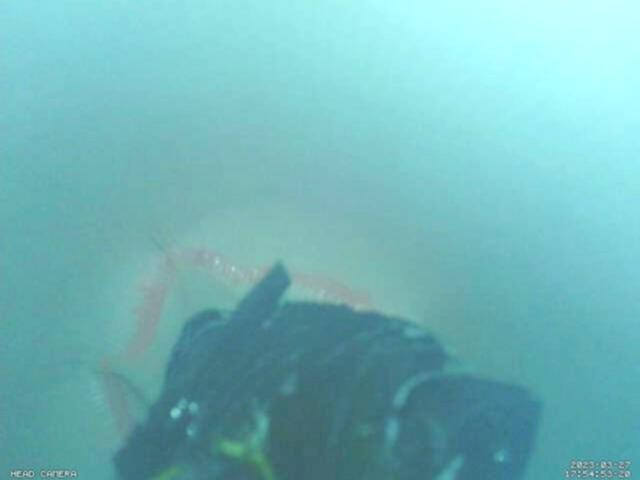head: (98, 245, 370, 445)
